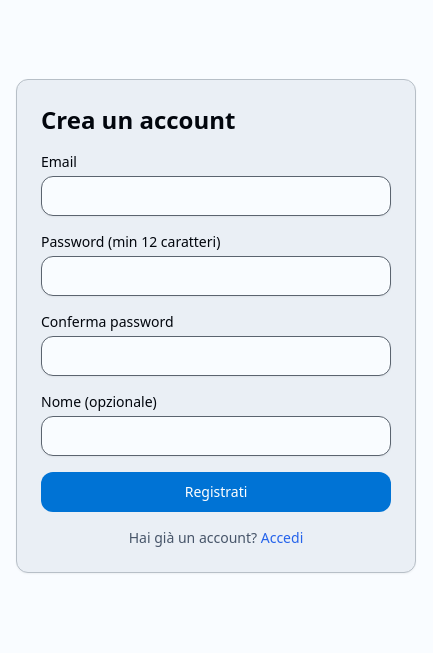
Test: RegisterPage — US-067 form validation › shows confirmPassword mismatch error when passwords differ
The image size is (433, 653).
Type "test@example.com" into the field with test id "register-email".
click(216, 196); type("test@example.com")  # box [41,176,391,216]
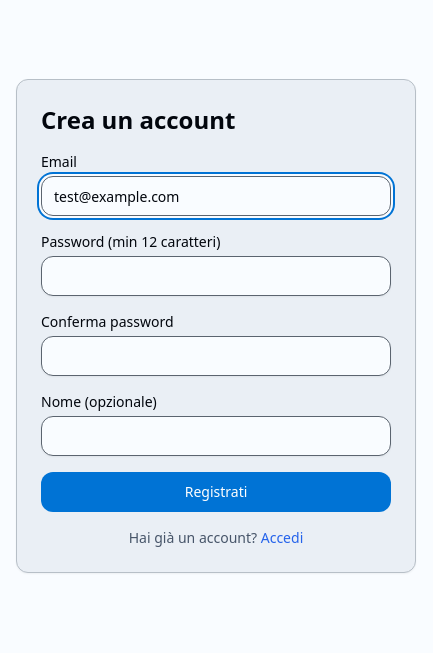
Type "Password1234!" into the password field with test id "register-password".
click(216, 276); type("Password1234!")  # box [41,256,391,296]
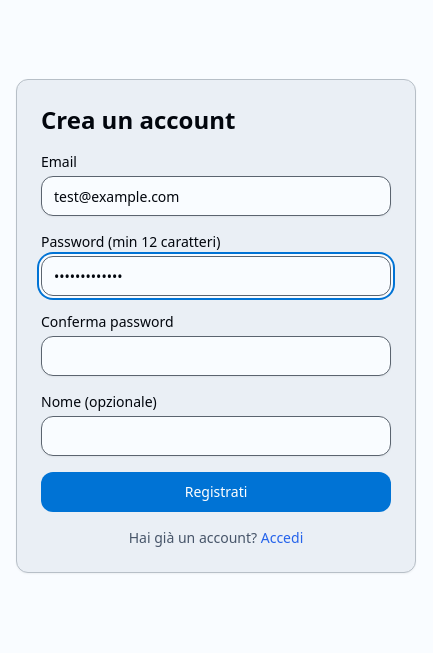
Type "DifferentPass1!" into the password field with test id "register-confirm-password".
click(216, 356); type("DifferentPass1!")  # box [41,336,391,376]
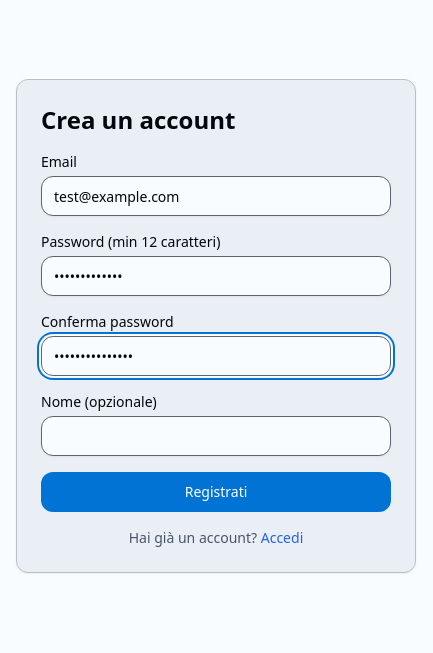
Click the button with test id "register-submit".
click(216, 492)  # box [41,472,391,512]
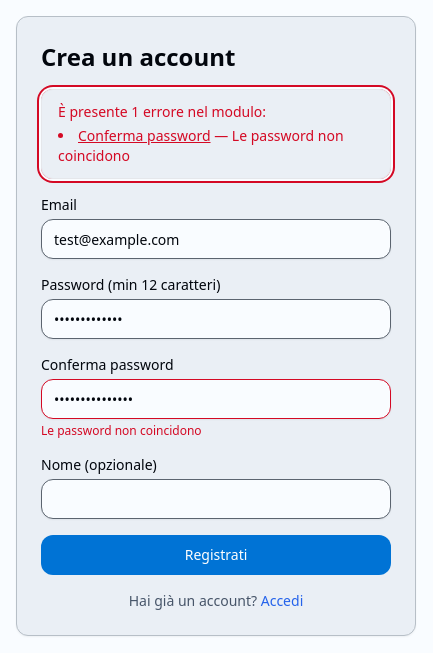
Expected: the text "Le password non coincidono" is shown, [41,422,202,439]
